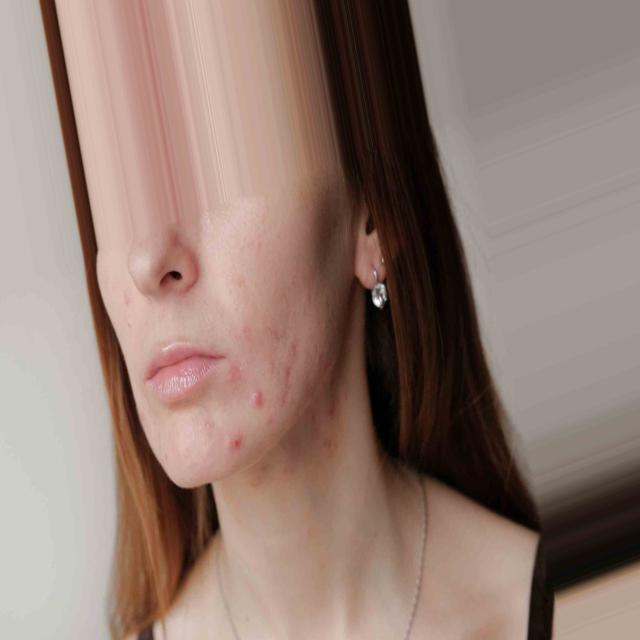Acne: (290, 288, 328, 469), (274, 328, 302, 390), (231, 385, 282, 418), (214, 427, 250, 471), (329, 366, 348, 436), (220, 350, 250, 393), (228, 313, 258, 353), (324, 414, 338, 476), (116, 285, 140, 317)
